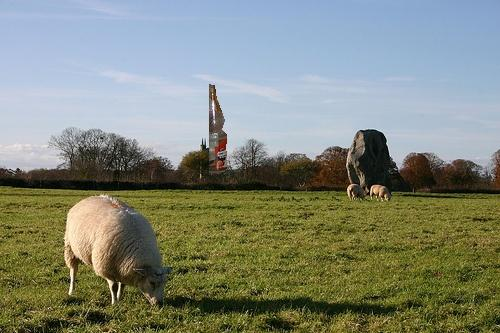tampered: (210, 85, 227, 175)
